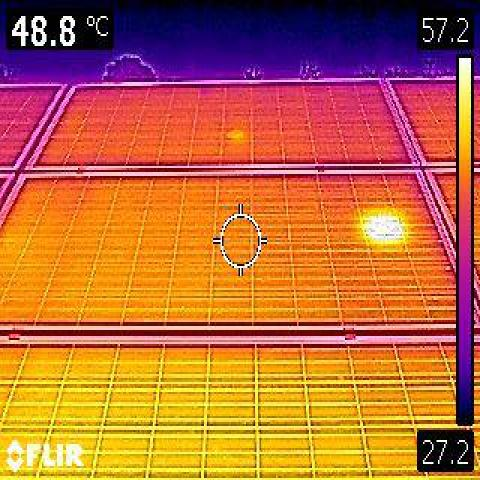fault: (365, 216, 401, 240)
